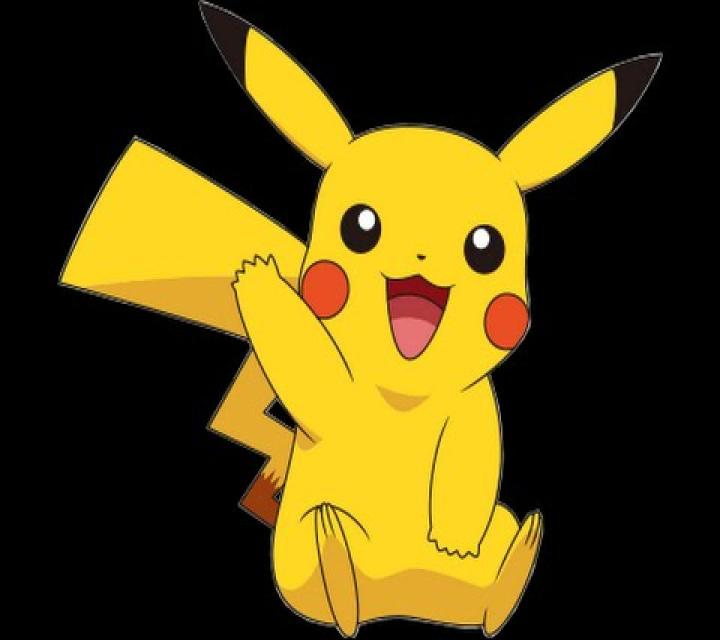Pikachu: (60, 1, 673, 640)
